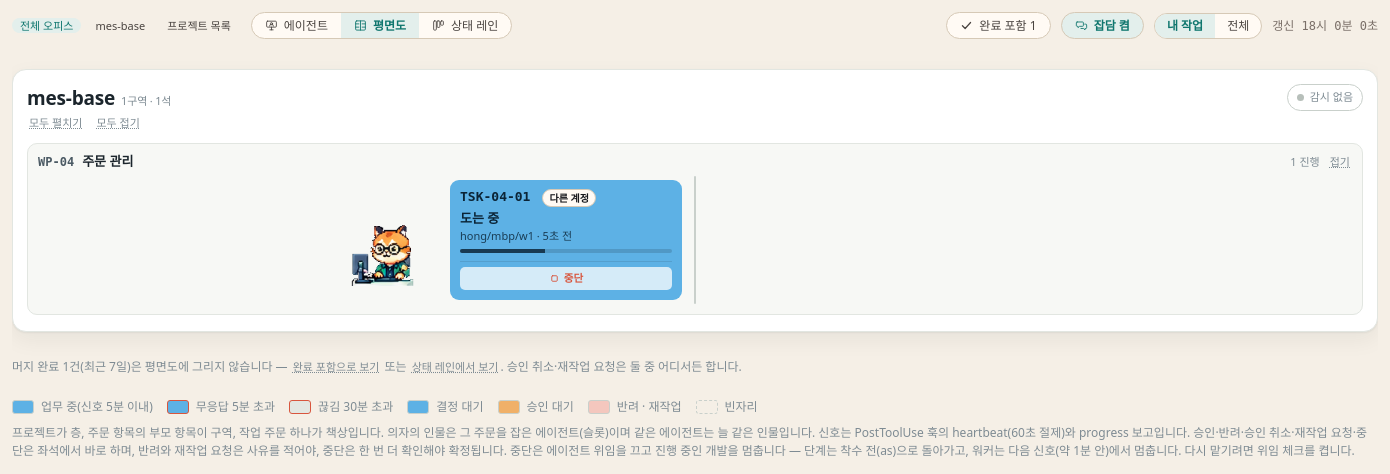
Test case: SeatmapView — 완료 포함 보기 › 켜면 완료 좌석이 평면도에 그려지고 안내가 사라진다
The image size is (1390, 474).
Step 1. Click the button "완료 포함 1" → (999, 26), box [946,12,1051,39]
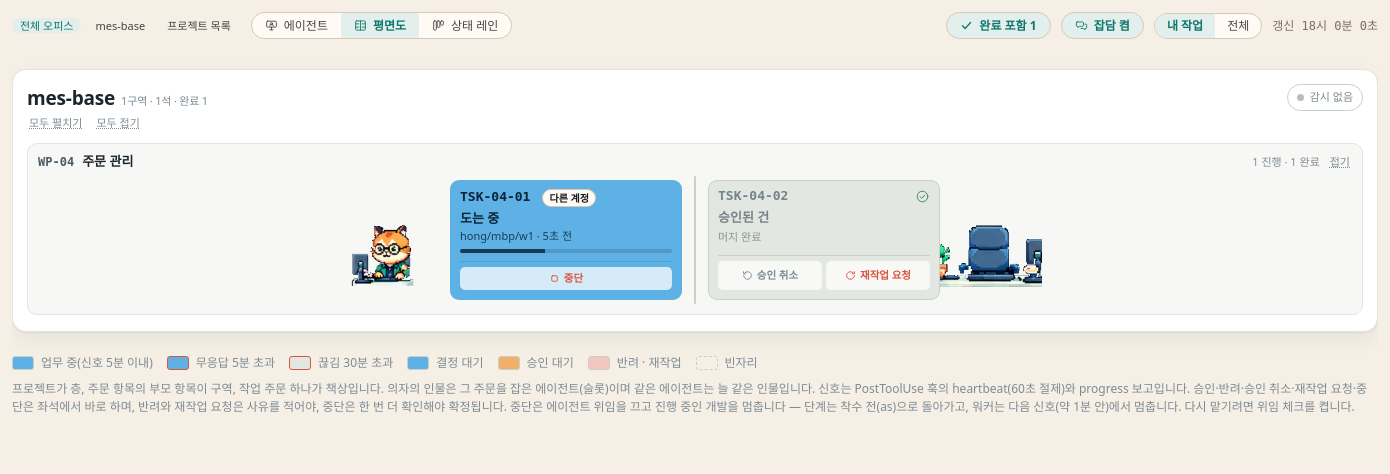
Result: the text "TSK-04-02" is shown at [718,189,788,203]
